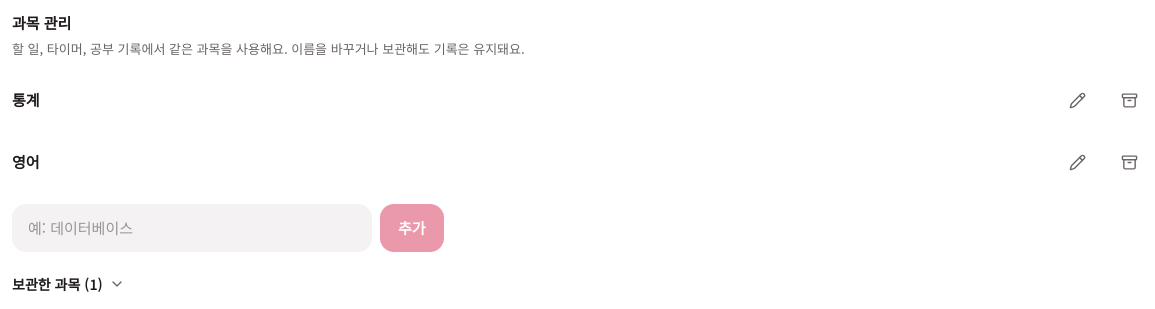
Test: SubjectManager 과목 보관 › blocks renaming to the name of an archived subject without sending a request
Click the button named "통계 이름 변경" at {"x": 1077, "y": 100}, box [1057,80,1097,120]
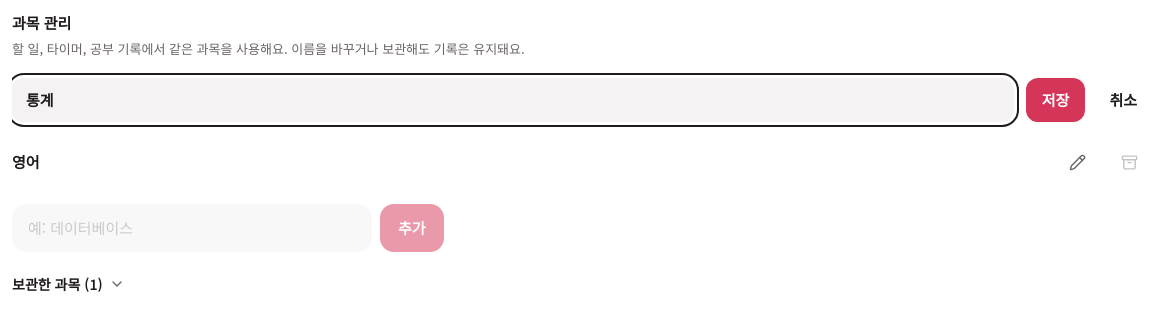
Replace the text in the field named "과목 이름 수정" with " 논문 " at {"x": 513, "y": 100}, box [12,78,1014,122]
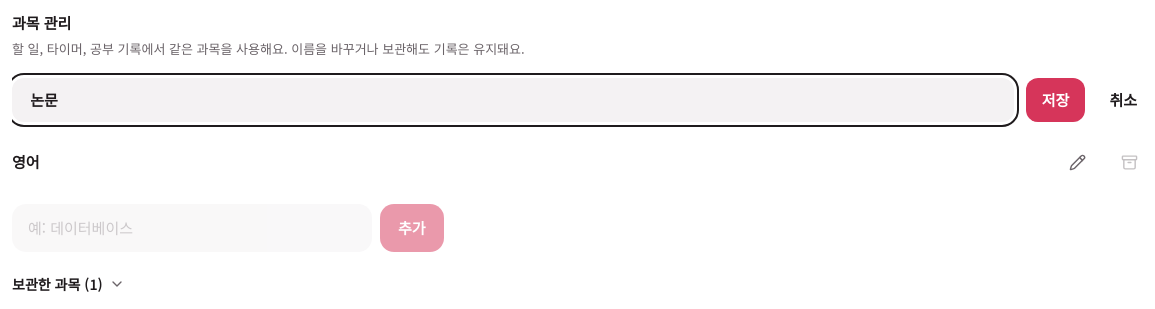
Press Enter in the field named "과목 이름 수정", box [12,78,1014,122]
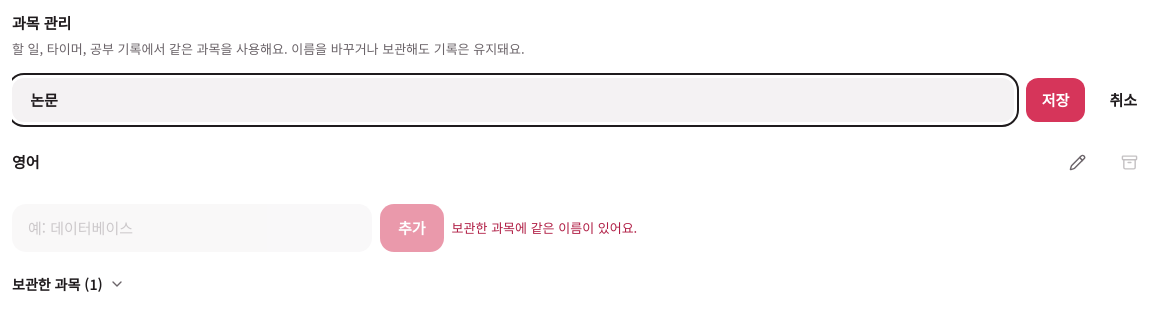
Expected: the message reads "보관한 과목에 같은 이름이 있어요.", [452,218,637,237]
Replace the text in the field named "과목 이름 수정" with "영어" at {"x": 513, "y": 100}, box [12,78,1014,122]
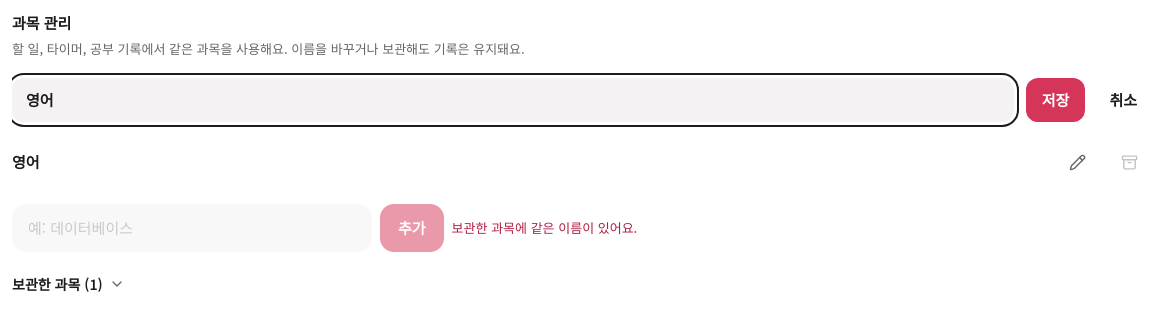
Click the button with aria-label "과목 이름 저장" at {"x": 1056, "y": 100}, box [1026,78,1085,122]
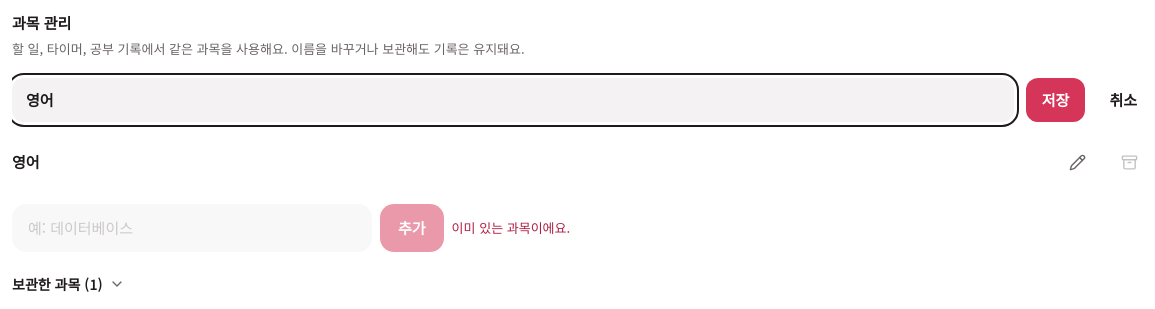
Expected: the message reads "이미 있는 과목이에요.", [452,218,570,237]
